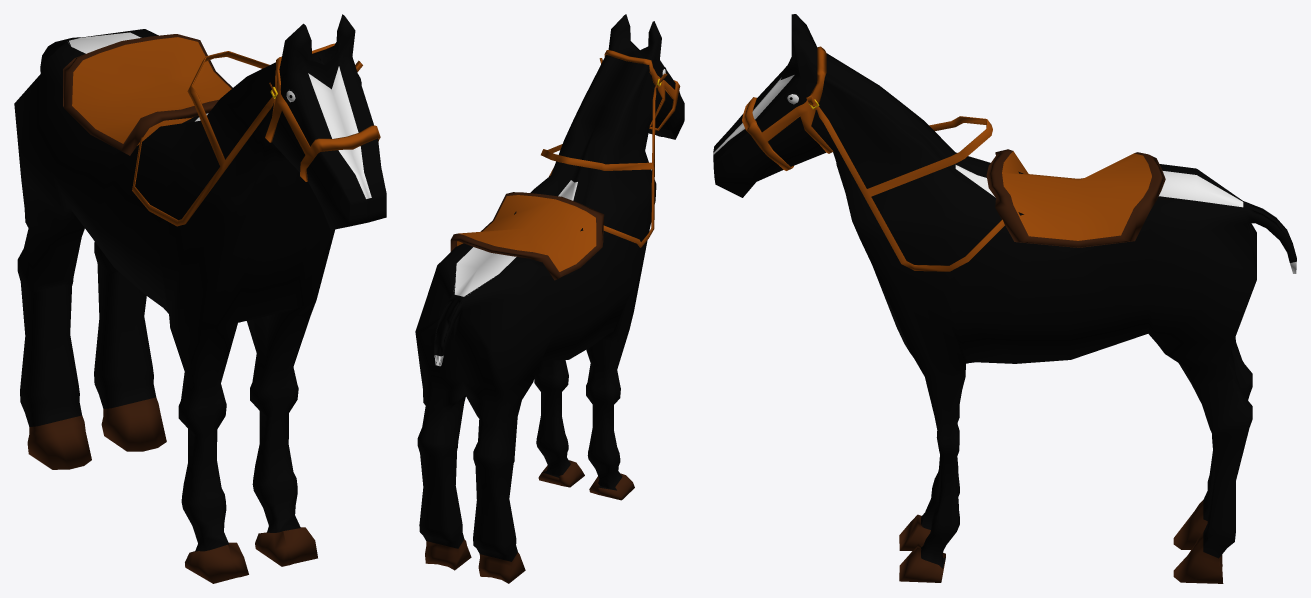
File: caballo.glb
3 views of the same model, side by side, from view 1: azimuth 30°, elevation 25°; view 2: azimuth 150°, elevation 25°; view 3: azimuth 270°, elevation 25° (orthographic). The views are drawn at different scales.
Parts seen in each view (by area): view 1: Cube_0, Cube.004_3, Cube.003_2, Cube.002_1; view 2: Cube_0, Cube.004_3, Cube.003_2, Cube.002_1; view 3: Cube_0, Cube.004_3, Cube.003_2, Cube.002_1.
Part boxes in pixels (left/top/right/bottom): Cube_0: left=14, top=14, right=386, bottom=583; Cube.004_3: left=63, top=34, right=232, bottom=155; Cube.003_2: left=132, top=51, right=362, bottom=226; Cube.002_1: left=265, top=43, right=380, bottom=181; Cube_0: left=415, top=14, right=684, bottom=583; Cube.004_3: left=450, top=192, right=604, bottom=280; Cube.003_2: left=541, top=58, right=667, bottom=247; Cube.002_1: left=604, top=50, right=680, bottom=130; Cube_0: left=713, top=14, right=1296, bottom=583; Cube.004_3: left=986, top=149, right=1165, bottom=247; Cube.003_2: left=806, top=95, right=1004, bottom=271; Cube.002_1: left=742, top=46, right=833, bottom=170.
Size of the model in its own units: 4.89 by 14.6 by 14.41.
